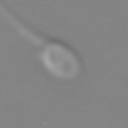normal: (1, 1, 44, 47)
